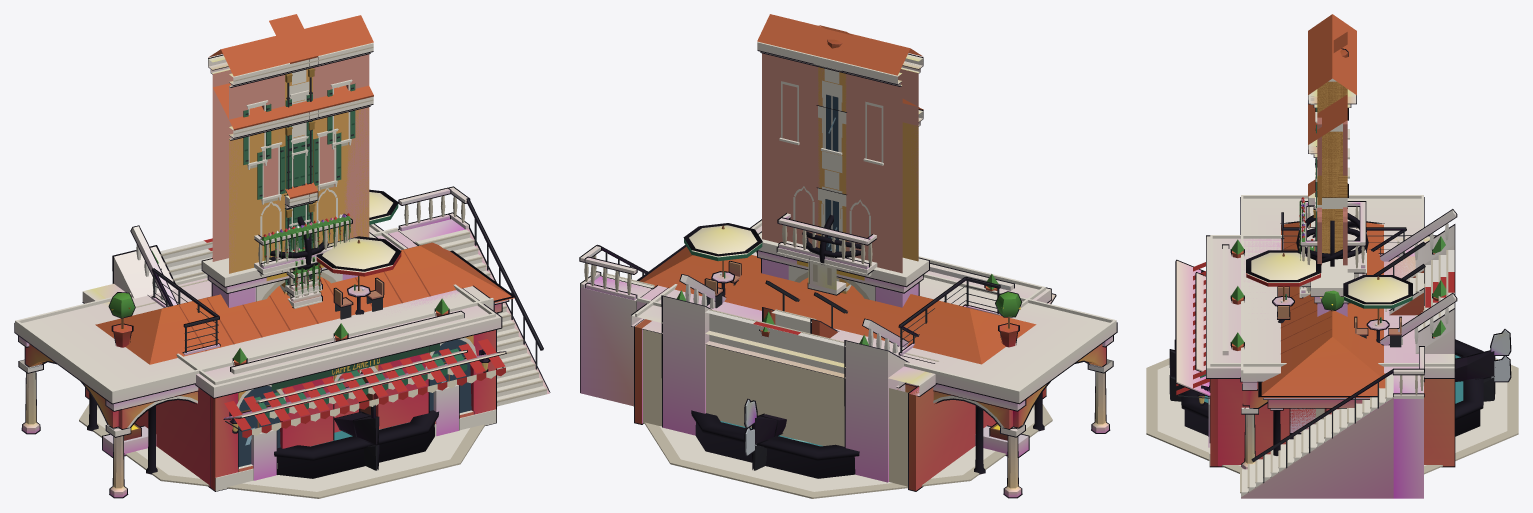
File: fps-kit-venetian.glb
3 renders of one model, left to right at view 1: azimuth 30°, elevation 25°; view 2: azimuth 150°, elevation 25°; view 3: azimuth 270°, elevation 25°, orthographic. The views are drawn at different scales.
Visible parts, largest first — view 1: KIT_VENETIAN_Cafe_A, KIT_VENETIAN_Loggia, KIT_VENETIAN_GateTop_C, KIT_VENETIAN_Pavilion, KIT_VENETIAN_GateTop_3, KIT_VENETIAN_Landmark_Fountain, KIT_VENETIAN_Landmark_Stair, KIT_VENETIAN_Cafe_B, KIT_VENETIAN_GateFrame, KIT_VENETIAN_GateTop_P, KIT_VENETIAN_C_BalL, KIT_VENETIAN_Gondola (+3 smaller); view 2: KIT_VENETIAN_Cafe_A, KIT_VENETIAN_Loggia, KIT_VENETIAN_GateTop_C, KIT_VENETIAN_GateTop_P, KIT_VENETIAN_Landmark_Stair, KIT_VENETIAN_Pavilion, KIT_VENETIAN_Landmark_Fountain, KIT_VENETIAN_GateFrame, KIT_VENETIAN_C_BalL, KIT_VENETIAN_GateTop_3, KIT_VENETIAN_C_Quoin, KIT_VENETIAN_Stair (+4 smaller); view 3: KIT_VENETIAN_Loggia, KIT_VENETIAN_Cafe_A, KIT_VENETIAN_Pavilion, KIT_VENETIAN_Landmark_Fountain, KIT_VENETIAN_GateTop_C, KIT_VENETIAN_Landmark_Stair, KIT_VENETIAN_Cafe_B, KIT_VENETIAN_C_Quoin, KIT_VENETIAN_HP_Corner, KIT_VENETIAN_Gondola, KIT_VENETIAN_GateTop_3, KIT_VENETIAN_GateFrame (+5 smaller).
Boxes of the visible parts, x1=… form: KIT_VENETIAN_Cafe_A: x1=82, y1=189, x2=506, y2=491; KIT_VENETIAN_Loggia: x1=14, y1=186, x2=550, y2=498; KIT_VENETIAN_GateTop_C: x1=208, y1=15, x2=373, y2=277; KIT_VENETIAN_Pavilion: x1=87, y1=242, x2=515, y2=474; KIT_VENETIAN_GateTop_3: x1=213, y1=83, x2=373, y2=273; KIT_VENETIAN_Landmark_Fountain: x1=79, y1=216, x2=497, y2=498; KIT_VENETIAN_Landmark_Stair: x1=112, y1=225, x2=459, y2=480; KIT_VENETIAN_Cafe_B: x1=230, y1=298, x2=467, y2=432; KIT_VENETIAN_GateFrame: x1=201, y1=232, x2=377, y2=307; KIT_VENETIAN_GateTop_P: x1=212, y1=70, x2=350, y2=262; KIT_VENETIAN_C_BalL: x1=277, y1=29, x2=322, y2=296; KIT_VENETIAN_Gondola: x1=334, y1=405, x2=379, y2=445; KIT_VENETIAN_Cafe_A: x1=631, y1=219, x2=1056, y2=491; KIT_VENETIAN_Loggia: x1=579, y1=232, x2=1117, y2=498; KIT_VENETIAN_GateTop_C: x1=757, y1=14, x2=923, y2=276; KIT_VENETIAN_GateTop_P: x1=762, y1=53, x2=902, y2=272; KIT_VENETIAN_Landmark_Stair: x1=661, y1=274, x2=909, y2=482; KIT_VENETIAN_Pavilion: x1=637, y1=245, x2=1044, y2=474; KIT_VENETIAN_Landmark_Fountain: x1=633, y1=214, x2=1052, y2=498; KIT_VENETIAN_GateFrame: x1=757, y1=231, x2=929, y2=307; KIT_VENETIAN_C_BalL: x1=808, y1=29, x2=853, y2=295; KIT_VENETIAN_GateTop_3: x1=902, y1=99, x2=923, y2=261; KIT_VENETIAN_C_Quoin: x1=822, y1=68, x2=847, y2=291; KIT_VENETIAN_Stair: x1=762, y1=280, x2=847, y2=338; KIT_VENETIAN_Loggia: x1=1240, y1=195, x2=1424, y2=498; KIT_VENETIAN_Cafe_A: x1=1175, y1=212, x2=1455, y2=467; KIT_VENETIAN_Pavilion: x1=1258, y1=220, x2=1385, y2=455; KIT_VENETIAN_Landmark_Fountain: x1=1146, y1=207, x2=1518, y2=474; KIT_VENETIAN_GateTop_C: x1=1299, y1=14, x2=1366, y2=277; KIT_VENETIAN_Landmark_Stair: x1=1208, y1=209, x2=1457, y2=447; KIT_VENETIAN_Cafe_B: x1=1195, y1=239, x2=1315, y2=431; KIT_VENETIAN_C_Quoin: x1=1317, y1=81, x2=1347, y2=253; KIT_VENETIAN_HP_Corner: x1=1317, y1=78, x2=1347, y2=253; KIT_VENETIAN_Gondola: x1=1169, y1=329, x2=1511, y2=381; KIT_VENETIAN_GateTop_3: x1=1307, y1=94, x2=1347, y2=250; KIT_VENETIAN_GateFrame: x1=1310, y1=219, x2=1354, y2=316.
Bounding box in the file's own units: 15.67 × 14.8 × 12.2.
Materials: 1 (1 with a texture image).
